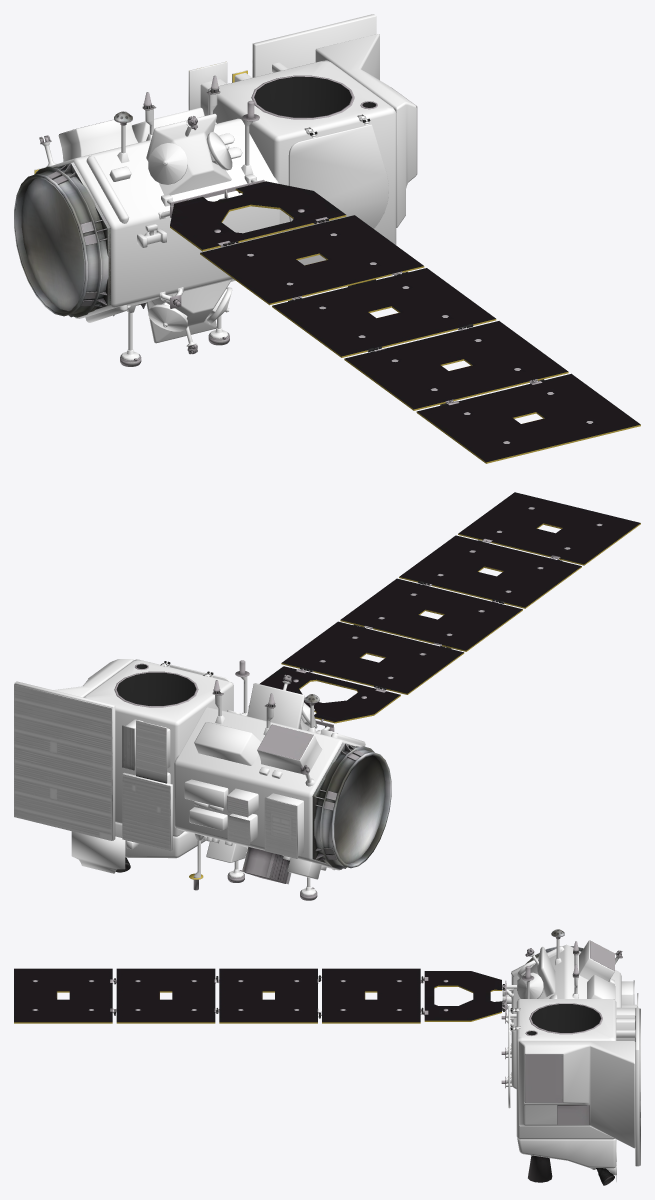
Rendered from ice-clouds-and-land-elevation-satellite-2-icesat-2-b.glb.
The picture shows the model from 3 angles, top to bottom: view 1: azimuth 30°, elevation 25°; view 2: azimuth 150°, elevation 25°; view 3: azimuth 270°, elevation 25°; orthographic projection. The views are drawn at different scales.
Visible parts, largest first — view 1: Cylinder.001, solar_panels, instruments, Atlas scope, hinges; view 2: instruments, Cylinder.001, solar_panels, Atlas scope; view 3: solar_panels, Cylinder.001, instruments, Atlas scope, hinges.
Boxes of the visible parts, x1,y1,x2,y2 form: Cylinder.001: (36, 14, 416, 360); solar_panels: (200, 215, 640, 463); instruments: (14, 14, 417, 366); Atlas scope: (251, 75, 377, 119); hinges: (186, 114, 544, 405); instruments: (14, 660, 400, 900); Cylinder.001: (14, 659, 365, 895); solar_panels: (281, 492, 640, 694); Atlas scope: (114, 663, 198, 707); solar_panels: (14, 968, 420, 1023); Cylinder.001: (502, 939, 639, 1181); instruments: (424, 929, 640, 1185); Atlas scope: (525, 1003, 602, 1035); hinges: (110, 975, 520, 1034).
Bounding box in the file's own units: 3.63 × 2.31 × 7.34.
8 materials, 1 textured.
